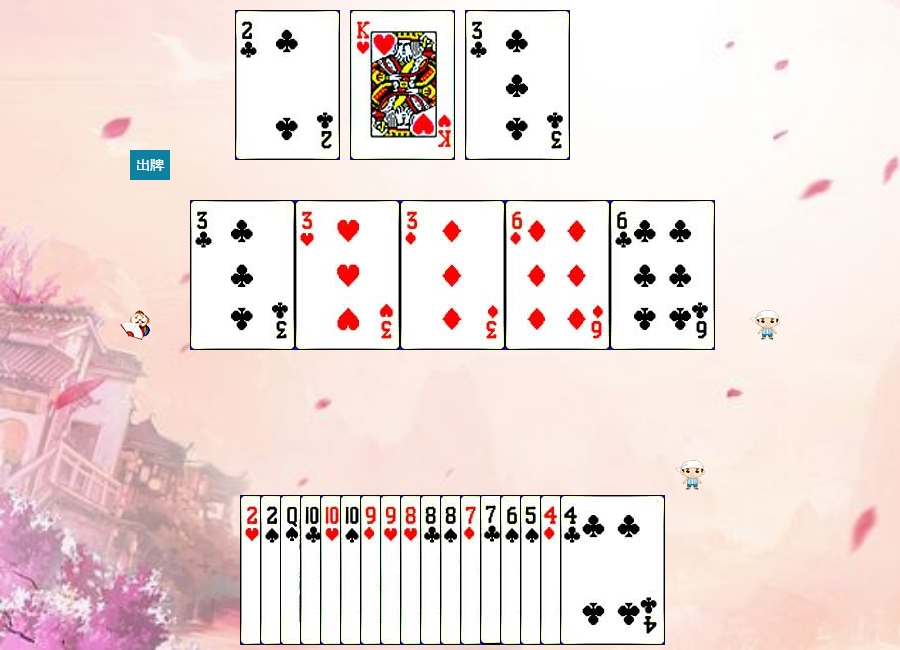10~2: (300, 495, 405, 645)
10~3: (320, 495, 425, 645)
10~4: (340, 495, 445, 645)
12~4: (280, 495, 385, 645)
13~3: (350, 10, 455, 160)
15~2: (235, 10, 340, 160)
15~3: (240, 495, 345, 645)
15~4: (260, 495, 365, 645)
3~1: (400, 200, 505, 350)
3~2: (465, 10, 570, 160), (190, 200, 295, 350)
3~3: (295, 200, 400, 350)
4~1: (540, 495, 645, 645)
4~2: (560, 495, 665, 645)
5~4: (520, 495, 625, 645)
6~1: (505, 200, 610, 350)
6~2: (610, 200, 715, 350)
6~4: (500, 495, 605, 645)
7~1: (460, 495, 565, 645)
7~2: (480, 495, 585, 645)
8~2: (420, 495, 525, 645)
8~3: (400, 495, 505, 645)
8~4: (440, 495, 545, 645)
9~1: (360, 495, 465, 645)
9~3: (380, 495, 485, 645)
